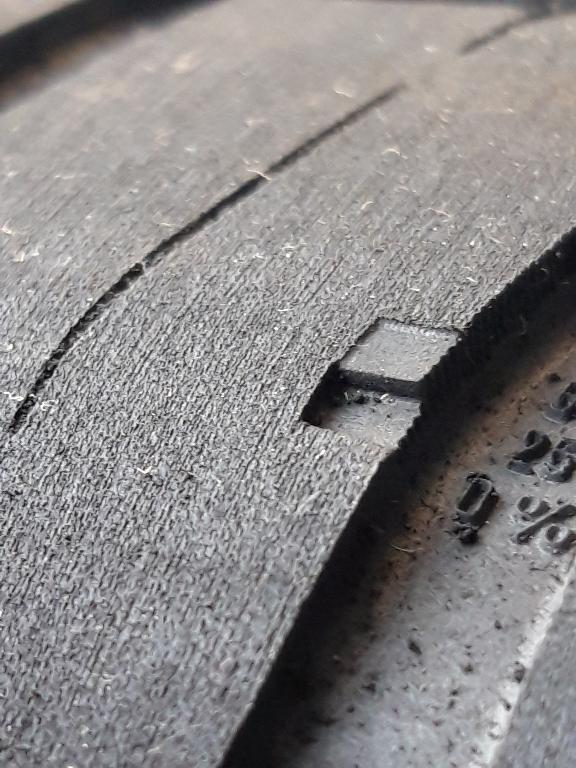temoin:25: (288, 304, 493, 480)
